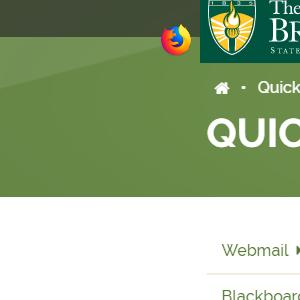firefox: (162, 23, 192, 56)
